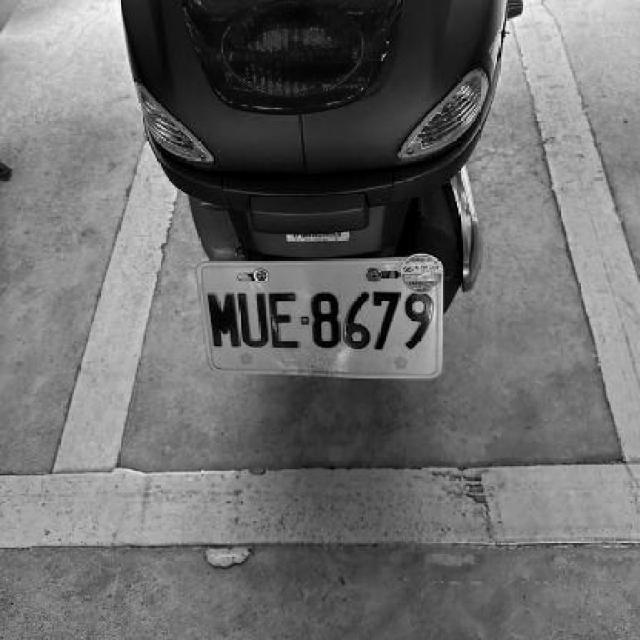-: (298, 315, 311, 328)
6: (340, 292, 374, 351)
7: (369, 290, 400, 352)
8: (309, 290, 345, 352)
9: (403, 292, 435, 354)
E: (267, 290, 299, 350)
M: (203, 287, 240, 349)
U: (234, 286, 268, 348)
